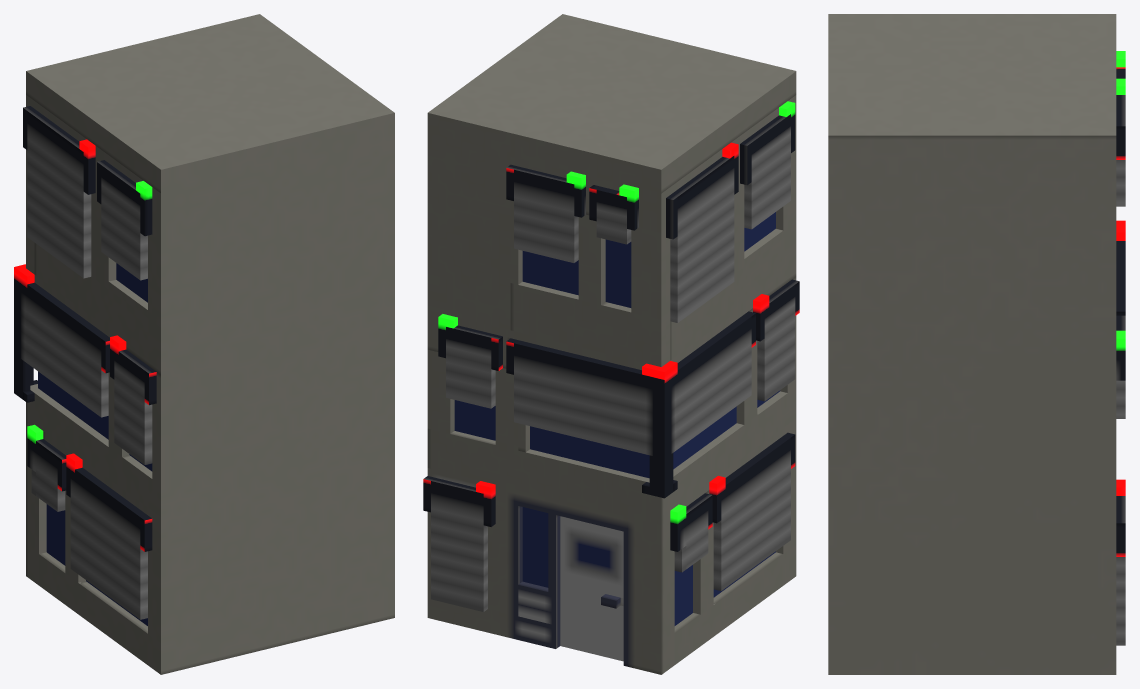
Rendered from budynek_05_okn_dzw_bok.dae.
The picture shows the model from 3 angles, left to right: view 1: azimuth 30°, elevation 25°; view 2: azimuth 150°, elevation 25°; view 3: azimuth 270°, elevation 25°; orthographic projection. The views are drawn at different scales.
Visible parts, largest first — view 1: Content; view 2: Content; view 3: Content.
Boxes of the visible parts, left/top/right/bottom form: Content: left=14, top=14, right=394, bottom=674; Content: left=423, top=14, right=799, bottom=674; Content: left=828, top=14, right=1125, bottom=674.
Bounding box in the file's own units: 32 × 64 × 32.
Materials: 1 (1 with a texture image).
